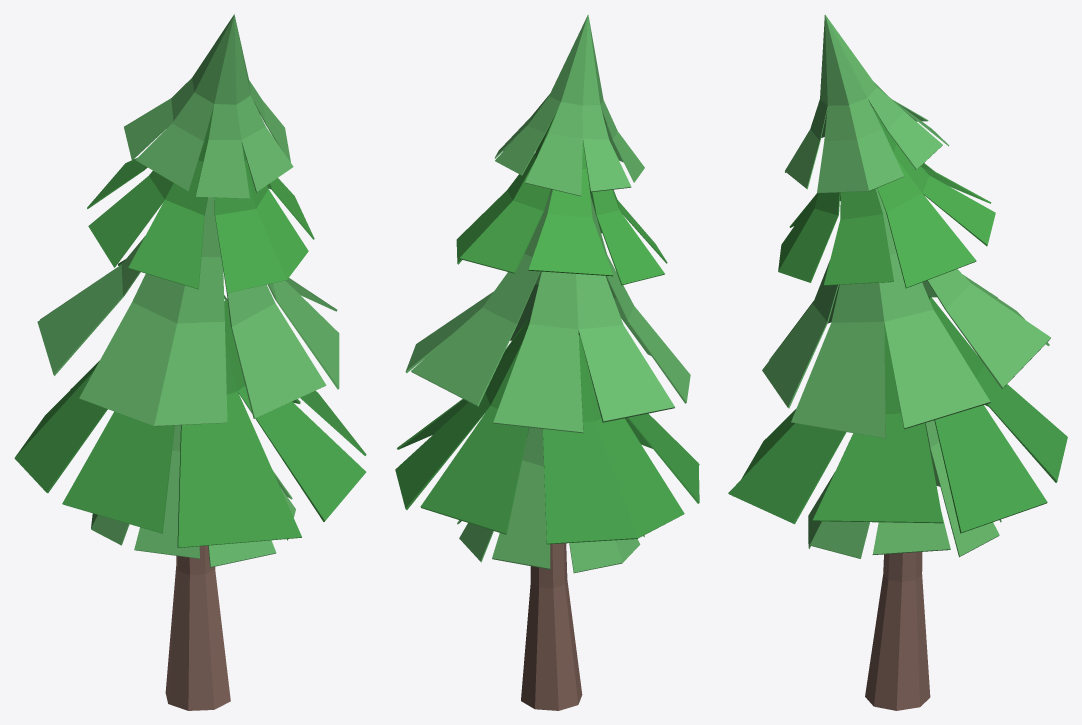
File: Tree_057.glb
The picture shows the model from 3 angles, left to right: view 1: azimuth 30°, elevation 25°; view 2: azimuth 150°, elevation 25°; view 3: azimuth 270°, elevation 25°; orthographic projection. The views are drawn at different scales.
Visible parts, largest first — view 1: Tree_057; view 2: Tree_057; view 3: Tree_057.
Part boxes in pixels (x1,y1,x2,y2): Tree_057: [14, 14, 366, 710]; Tree_057: [395, 14, 699, 710]; Tree_057: [728, 14, 1067, 710].
Bounding box in the file's own units: 3.55 × 8.29 × 3.74.
1 material, 1 textured.
